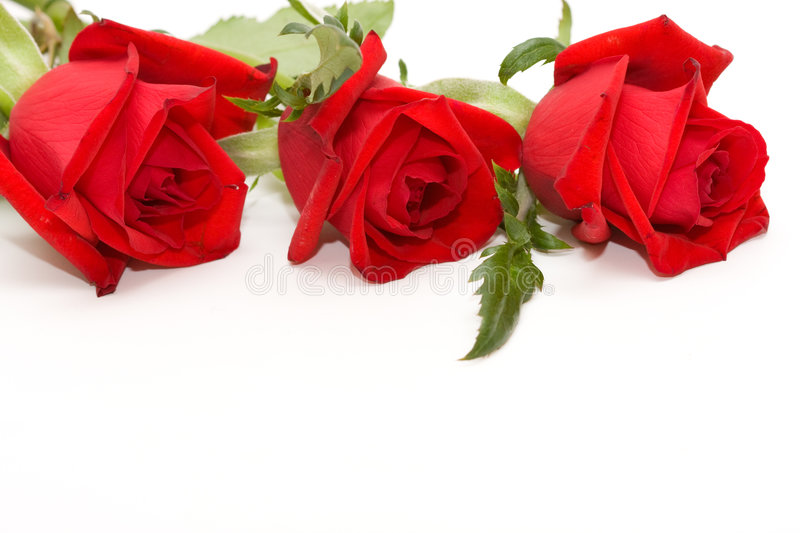RedRose: (13, 19, 259, 273), (522, 22, 776, 250), (312, 53, 527, 264)
